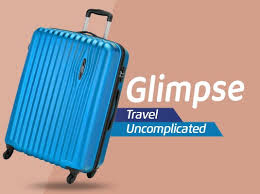suitcase: (3, 8, 130, 185)
